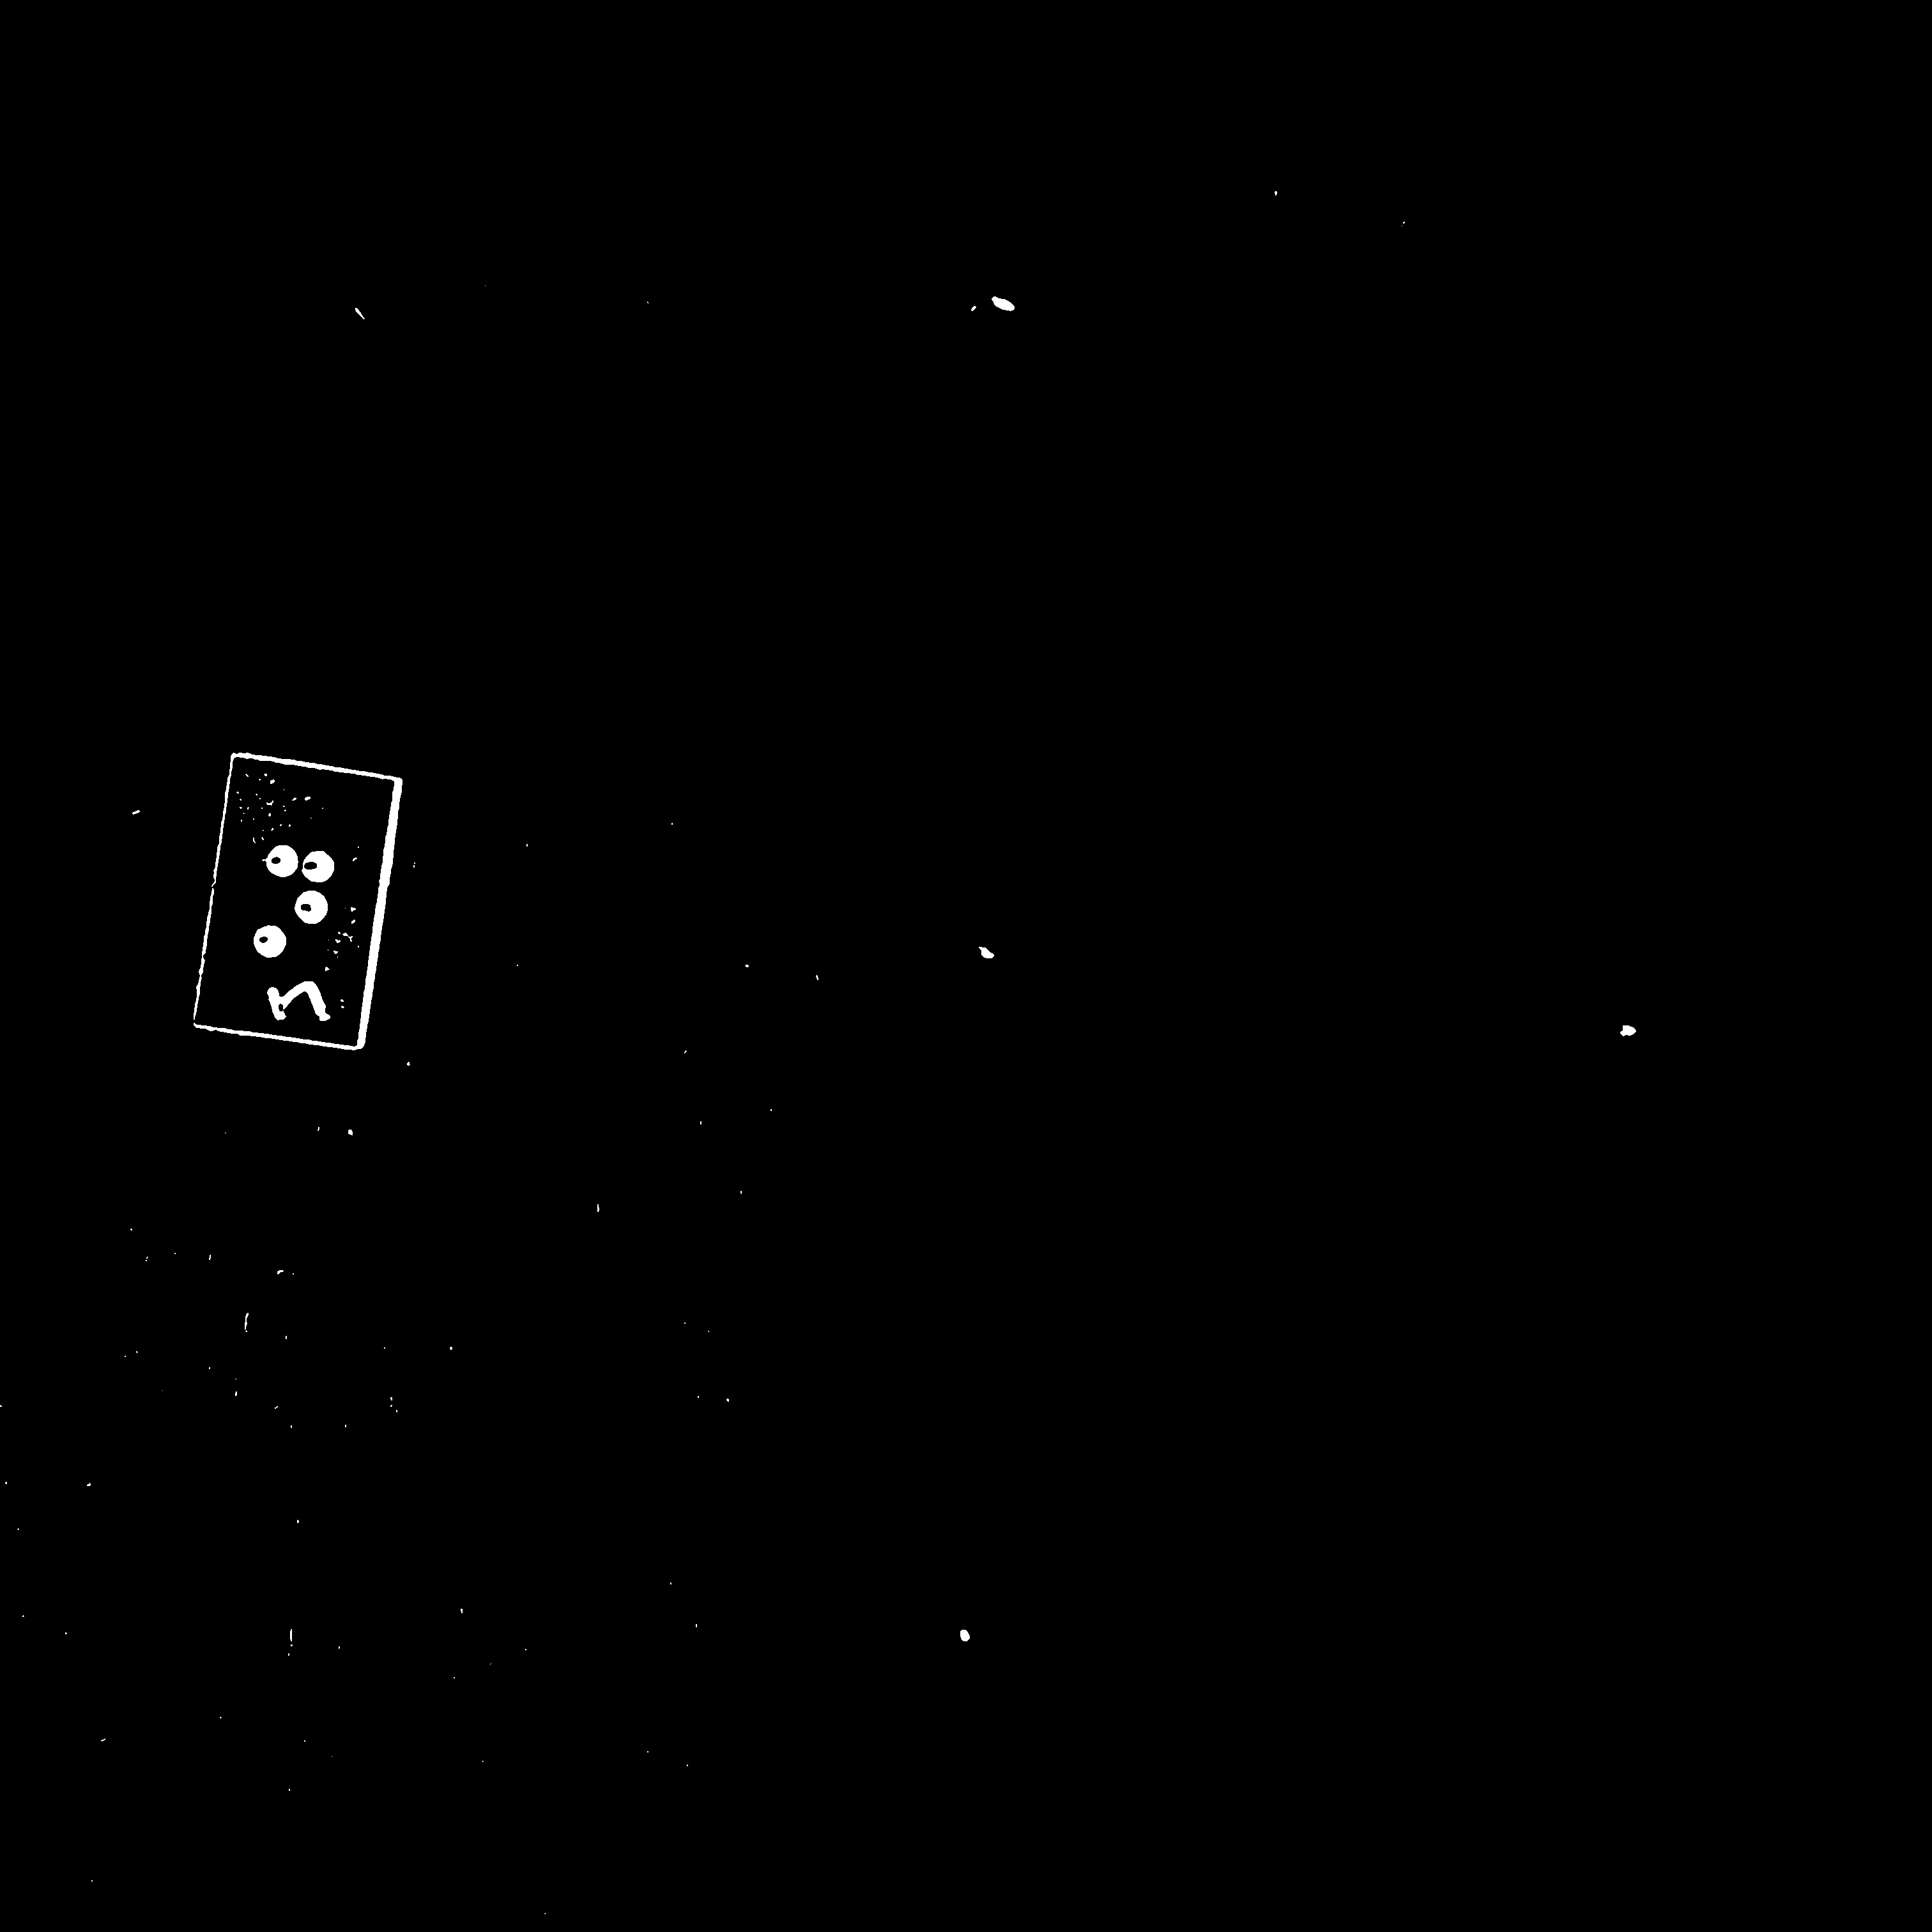n: (241, 826, 343, 968)
